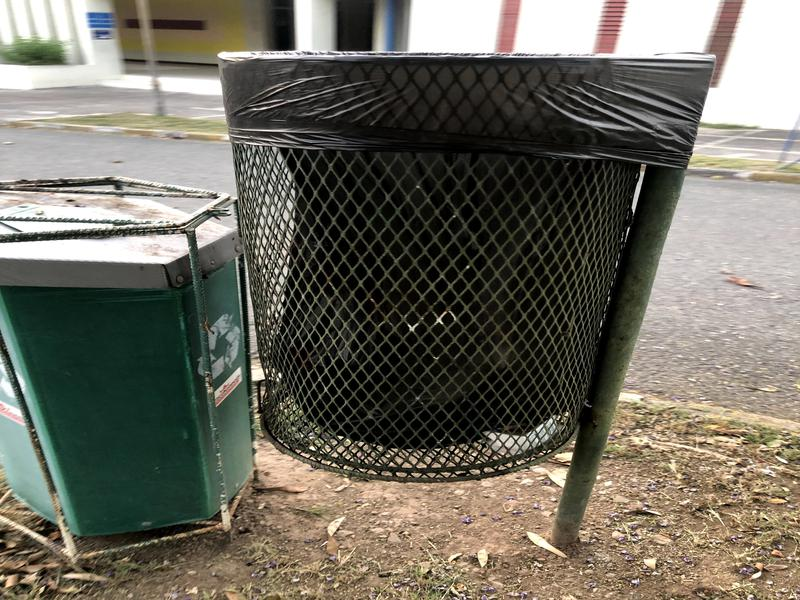18.0053245_-76.7486424_recyclebin: (1, 157, 270, 579)
